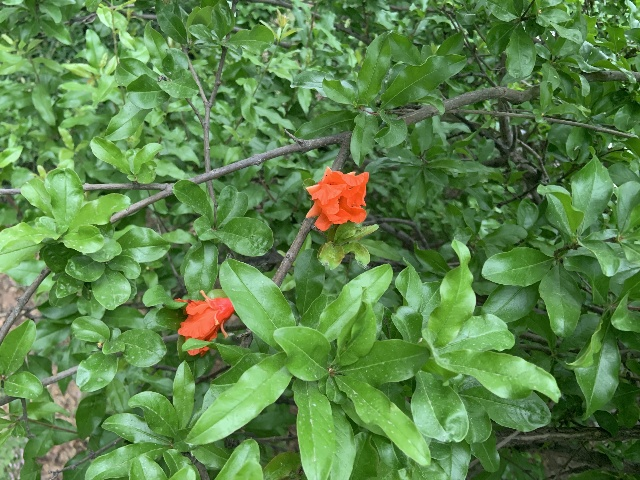flower: (304, 166, 368, 230), (173, 289, 234, 356)
